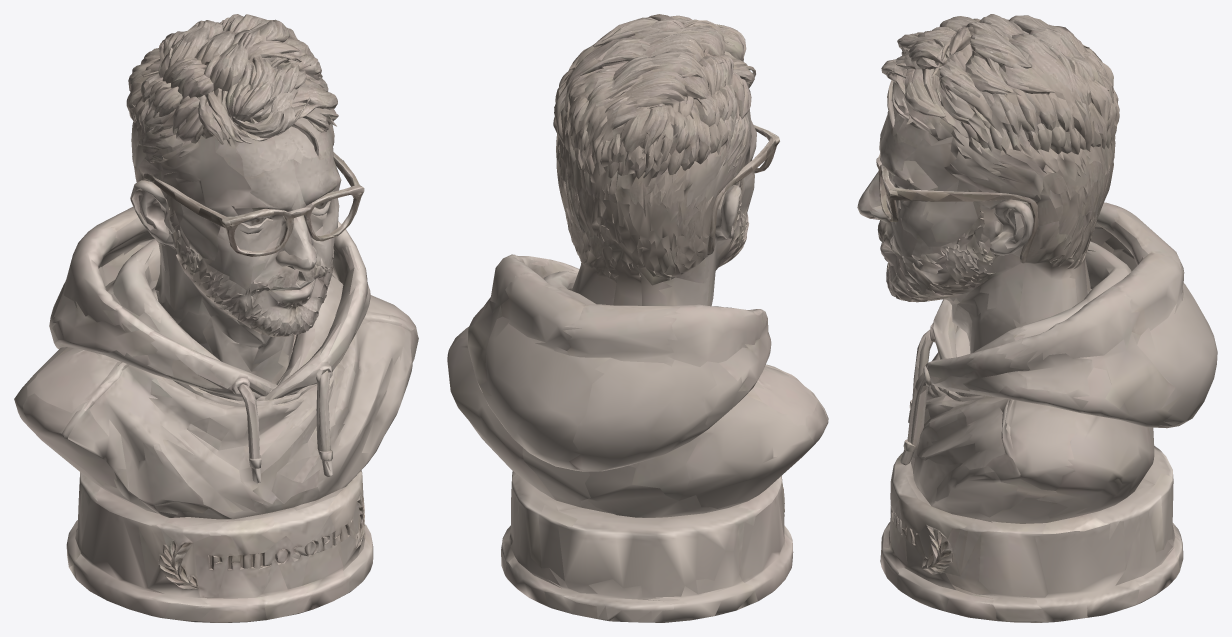
Rendered from statue-philosophy.glb.
3 views of the same model, side by side, from view 1: azimuth 30°, elevation 25°; view 2: azimuth 150°, elevation 25°; view 3: azimuth 270°, elevation 25° (orthographic). The views are drawn at different scales.
Visible parts, largest first — view 1: Mesh_0; view 2: Mesh_0; view 3: Mesh_0.
Part boxes in pixels (box(x1,y1,x2,y2)): Mesh_0: box(14, 14, 418, 622); Mesh_0: box(447, 14, 828, 622); Mesh_0: box(857, 14, 1217, 622).
Size of the model in its own units: 1.39 by 1.9 by 1.15.
1 material, 1 textured.
